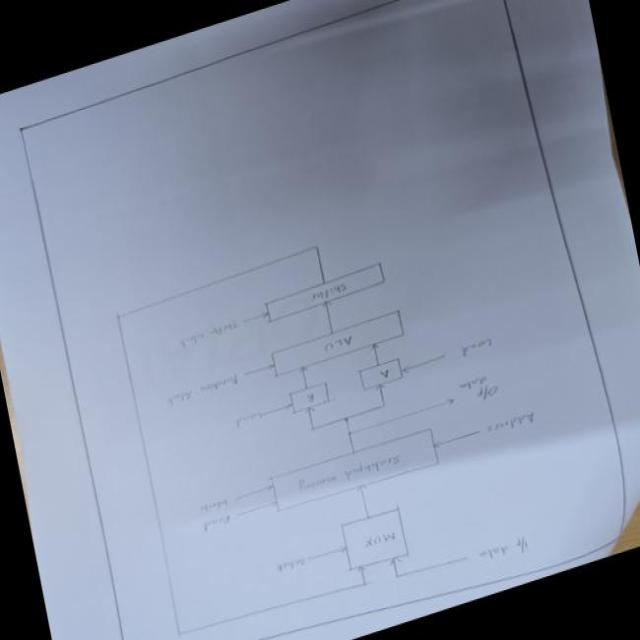Figure Detection - v3 Dataset Version2: (82, 170, 577, 640)
